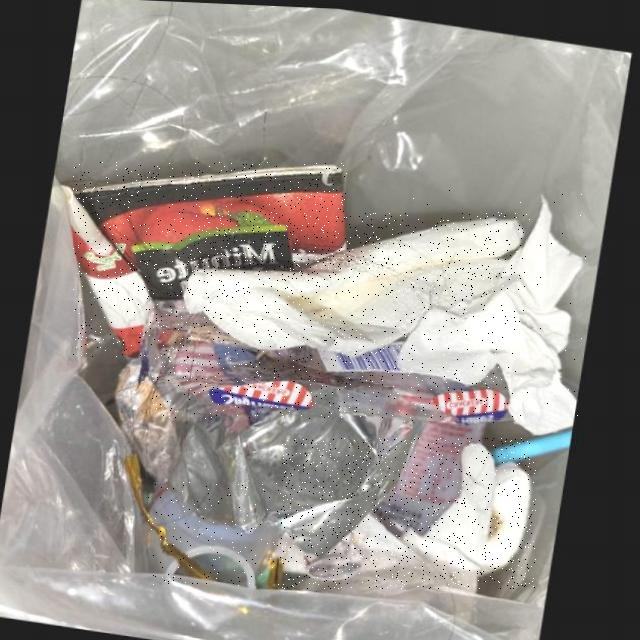paper: (74, 162, 349, 357), (187, 214, 527, 354), (401, 189, 586, 431), (280, 439, 536, 589)
plastic: (149, 483, 287, 586)
wrapper: (150, 298, 514, 419)
